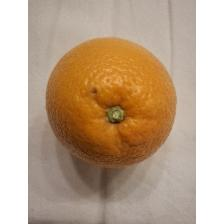Mandarine: (42, 34, 178, 170)
